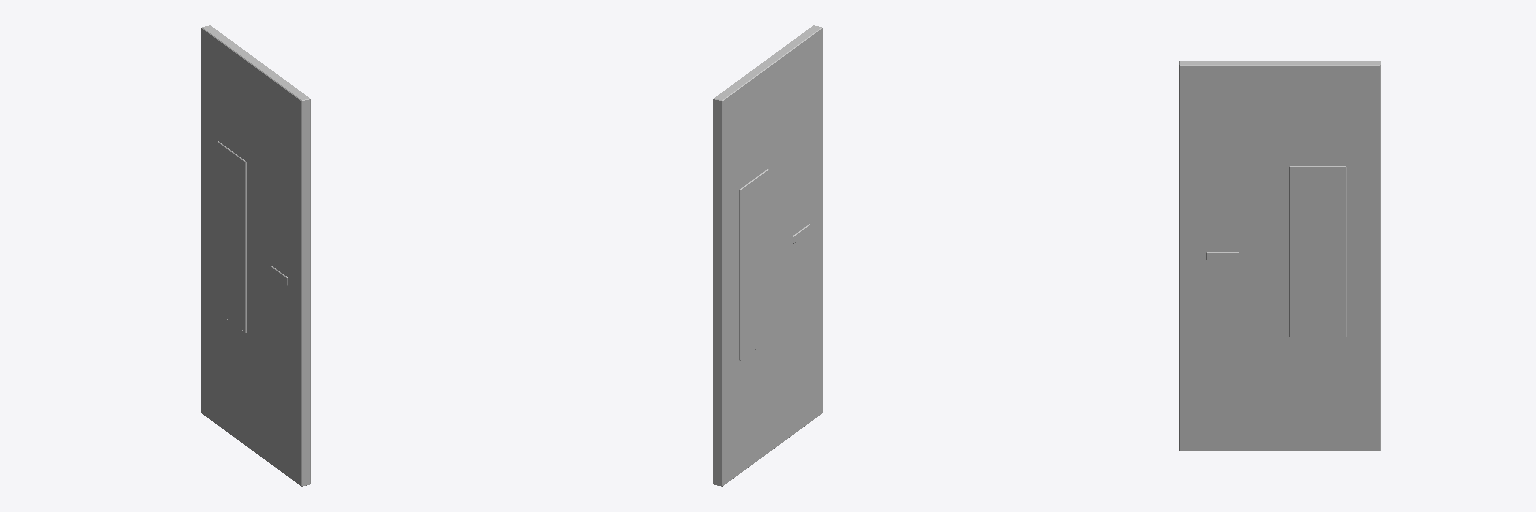
Rendered from puerta cocina_high.obj.
3 renders of one model, left to right at view 1: azimuth 30°, elevation 25°; view 2: azimuth 150°, elevation 25°; view 3: azimuth 270°, elevation 25°, orthographic.
Parts seen in each view (by area): view 1: polySurface20; view 2: polySurface20; view 3: polySurface20.
Boxes of the visible parts, x1=… form: polySurface20: x1=201, y1=25, x2=310, y2=486; polySurface20: x1=713, y1=25, x2=822, y2=486; polySurface20: x1=1179, y1=61, x2=1380, y2=450.
Size of the model in its own units: 1.31 by 42.44 by 20.02.